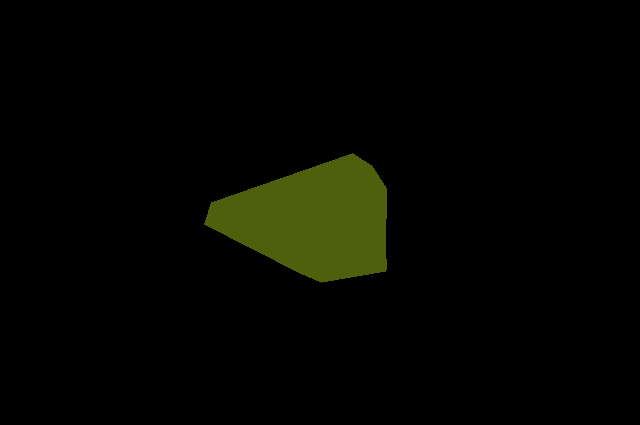Train: (204, 153, 387, 282)
